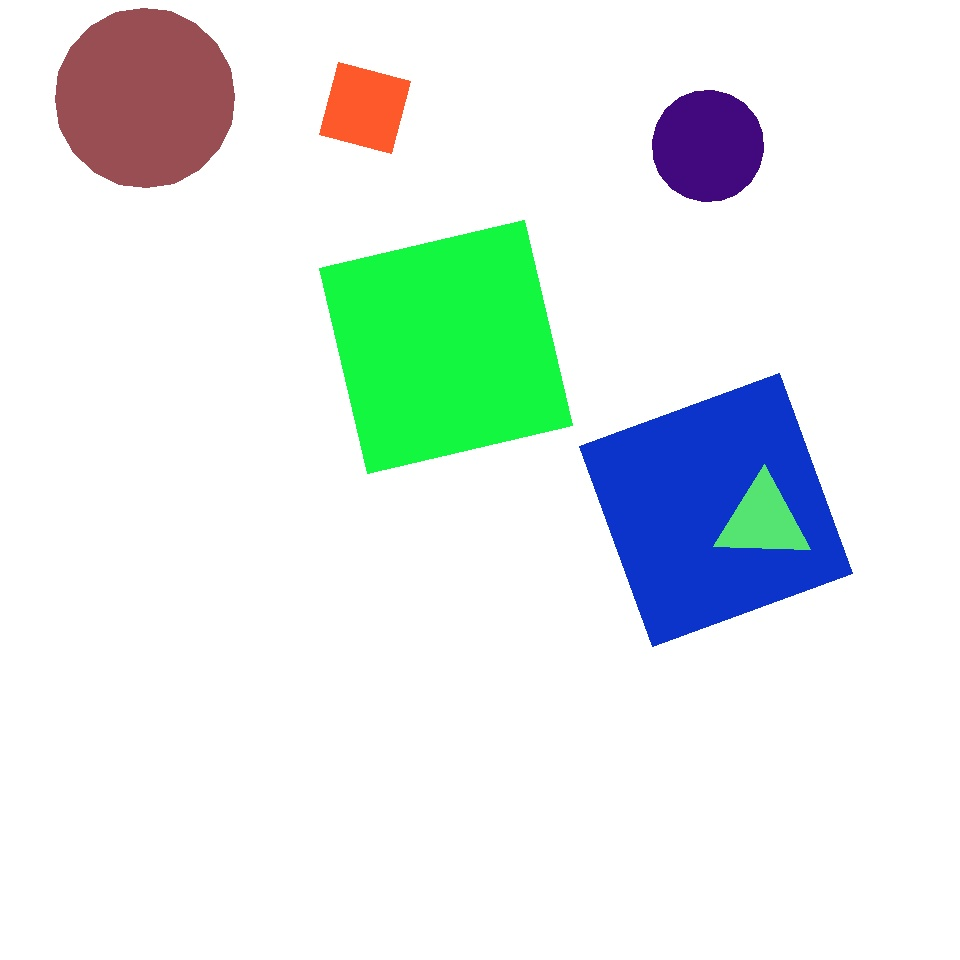circle: (714, 478, 812, 562)
square: (580, 374, 852, 646), (320, 220, 573, 474), (718, 182, 865, 328), (319, 63, 410, 154)
triangle: (178, 3, 502, 326), (55, 8, 234, 188), (740, 783, 868, 912), (324, 158, 436, 270), (652, 90, 764, 202)
